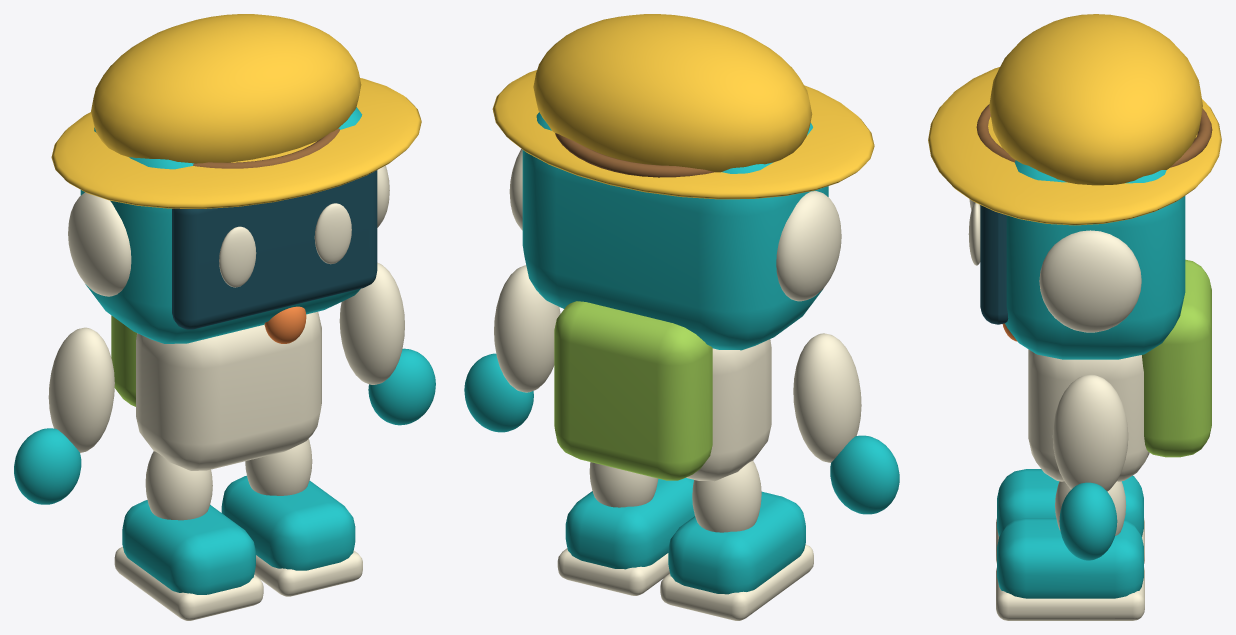
File: atlas-companion.glb
3 renders of one model, left to right at view 1: azimuth 30°, elevation 25°; view 2: azimuth 150°, elevation 25°; view 3: azimuth 270°, elevation 25°, orthographic. The views are drawn at different scales.
Parts seen in each view (by area): view 1: Safari hat crown, Cream expedition jacket, Friendly visor, Wide safari brim, Rounded teal head, Chunky boot, Chunky boot.001, Arm sleeve, Arm sleeve.001, Ear, Rounded hand, Cream sole (+10 smaller); view 2: Rounded teal head, Safari hat crown, Explorer backpack, Wide safari brim, Chunky boot, Chunky boot.001, Cream expedition jacket, Arm sleeve, Arm sleeve.001, Ear, Rounded hand, Cream sole (+6 smaller); view 3: Safari hat crown, Rounded teal head, Wide safari brim, Explorer backpack, Chunky boot.001, Ear.001, Cream expedition jacket, Arm sleeve.001, Chunky boot, Cream sole.001, Rounded hand.001, Friendly visor (+3 smaller).
Boxes of the visible parts, x1,y1,x2,y2 form: Safari hat crown: (91,14,361,163); Cream expedition jacket: (136,311,321,470); Friendly visor: (172,170,377,329); Wide safari brim: (51,78,421,208); Rounded teal head: (80,107,362,343); Chunky boot: (122,500,255,594); Chunky boot.001: (221,475,355,570); Arm sleeve: (48,327,114,452); Arm sleeve.001: (339,262,404,384); Ear: (68,192,131,296); Rounded hand: (14,428,81,504); Cream sole: (114,546,263,620); Rounded teal head: (522,112,828,350); Safari hat crown: (533,14,812,172); Explorer backpack: (554,301,712,480); Wide safari brim: (492,70,874,199); Chunky boot: (668,491,805,594); Chunky boot.001: (565,478,694,569); Cream expedition jacket: (686,339,771,481); Arm sleeve: (793,333,861,462); Arm sleeve.001: (494,265,560,392); Ear: (776,191,841,301); Rounded hand: (830,435,899,514); Cream sole: (660,544,813,620); Safari hat crown: (989,14,1202,185); Rounded teal head: (1005,160,1185,359); Wide safari brim: (928,67,1221,225); Explorer backpack: (1142,259,1211,457); Chunky boot.001: (997,518,1143,598); Ear.001: (1039,230,1141,332); Cream expedition jacket: (1028,349,1149,481); Arm sleeve.001: (1052,374,1128,491); Chunky boot: (997,469,1143,536); Cream sole.001: (996,567,1144,620); Rounded hand.001: (1059,482,1117,560); Friendly visor: (980,205,1008,324).
Size of the model in its own units: 2.17 by 2.69 by 1.32.
